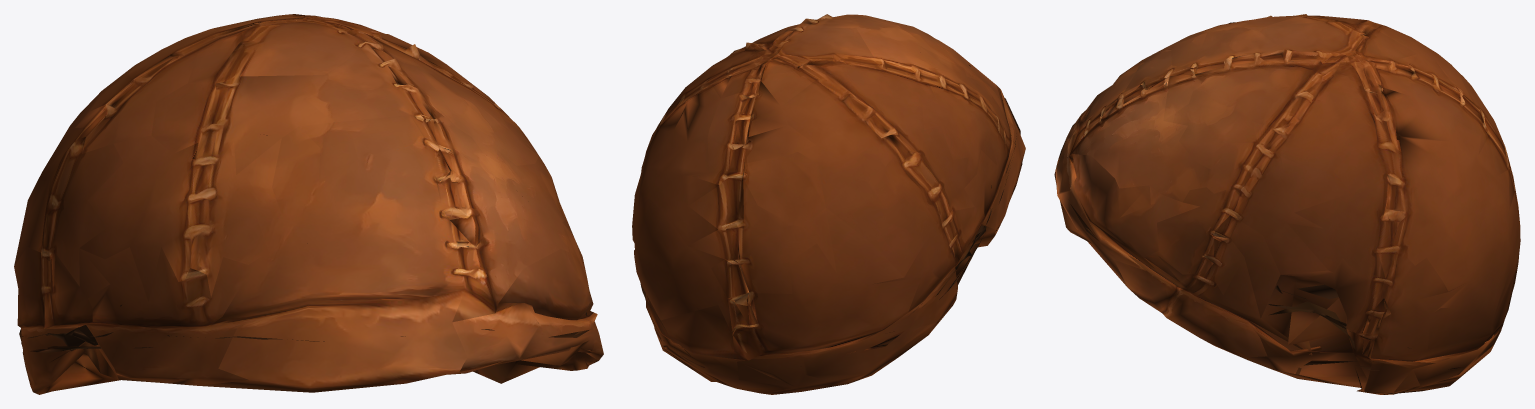
The model's file is leather_cap.glb.
3 views of the same model, side by side, from view 1: azimuth 30°, elevation 25°; view 2: azimuth 150°, elevation 25°; view 3: azimuth 270°, elevation 25° (orthographic). The views are drawn at different scales.
Visible parts, largest first — view 1: leather_cap; view 2: leather_cap; view 3: leather_cap.
Part boxes in pixels (x1,y1,x2,y2): leather_cap: [14, 14, 603, 394]; leather_cap: [632, 14, 1025, 394]; leather_cap: [1054, 14, 1520, 394].
Size of the model in its own units: 0.1983 by 0.1724 by 0.2375.
1 material, 1 textured.
